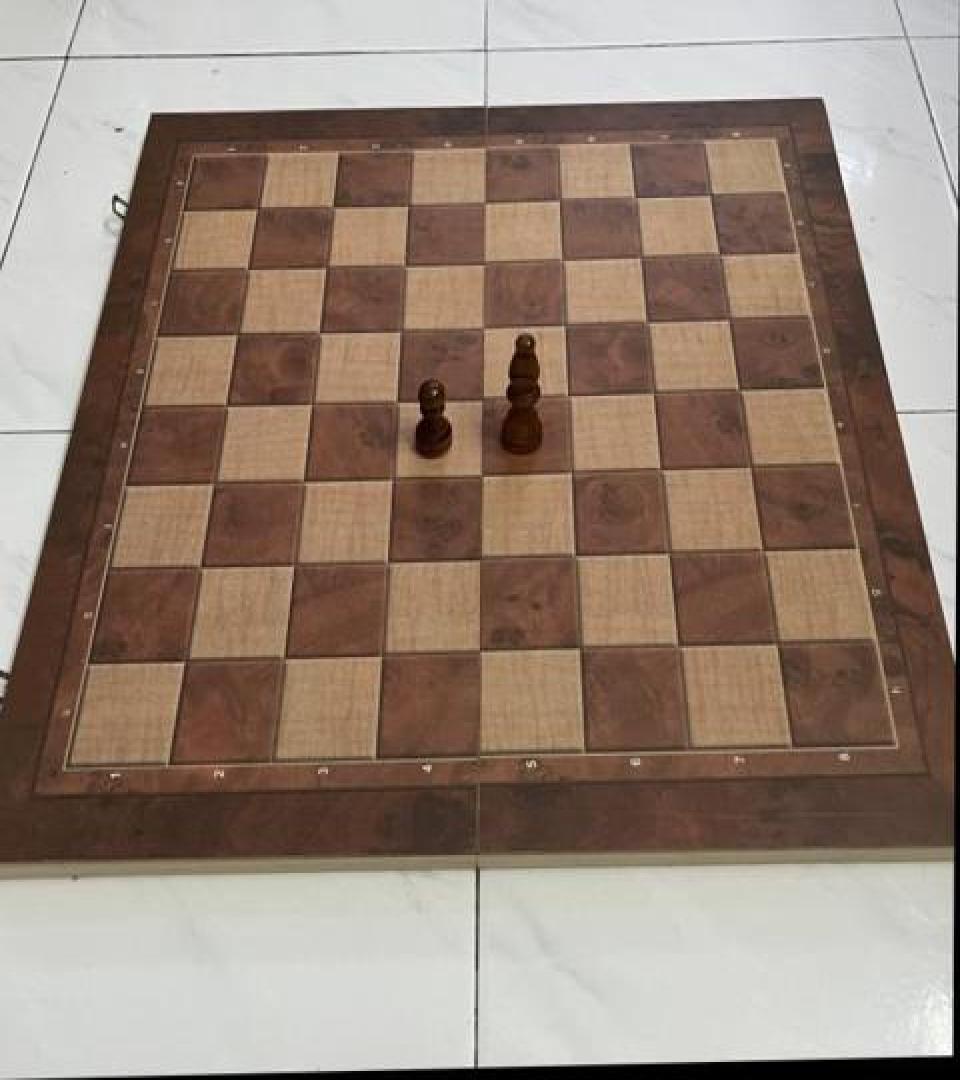xcorner: (695, 175, 729, 214), (723, 371, 757, 410), (619, 178, 653, 216), (542, 181, 576, 219), (466, 184, 500, 222), (390, 186, 424, 224), (314, 188, 348, 226), (238, 190, 272, 228), (704, 236, 738, 274), (624, 238, 658, 276), (545, 241, 579, 279), (466, 243, 500, 281), (387, 246, 421, 284), (308, 249, 342, 287), (229, 251, 263, 289), (713, 300, 747, 338), (630, 304, 664, 342), (548, 306, 582, 344), (466, 308, 500, 346), (383, 310, 417, 348), (301, 314, 335, 352), (219, 316, 253, 354), (637, 374, 671, 412), (551, 377, 585, 415), (465, 379, 499, 417), (379, 382, 413, 420), (293, 385, 327, 423), (208, 387, 242, 425), (734, 448, 768, 486), (644, 451, 678, 489), (555, 454, 589, 492), (465, 457, 499, 495), (375, 459, 409, 497), (285, 462, 319, 500), (196, 465, 230, 503), (746, 532, 780, 570), (652, 534, 686, 572), (558, 538, 592, 576), (464, 540, 498, 578), (370, 544, 404, 582), (277, 546, 311, 584), (183, 549, 217, 587), (760, 624, 794, 662), (661, 627, 695, 665), (562, 630, 596, 668), (464, 634, 498, 672), (365, 636, 399, 674), (267, 639, 301, 677), (169, 642, 203, 680)
